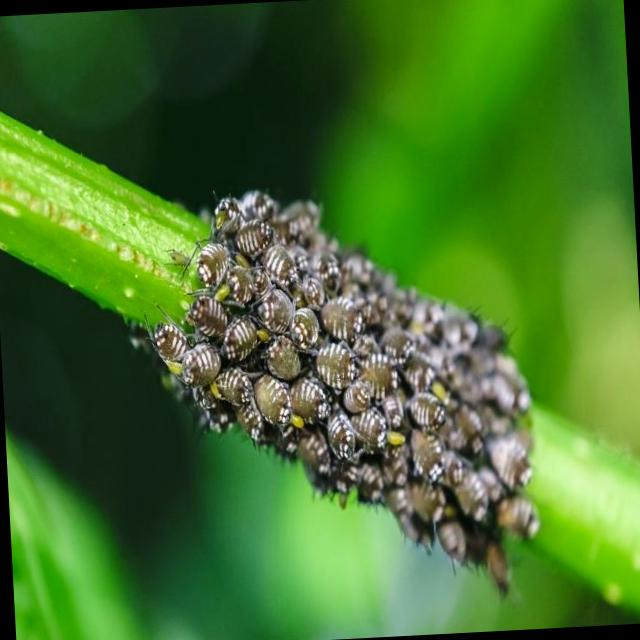aphid: (142, 297, 194, 377), (248, 366, 297, 444), (182, 278, 236, 344), (172, 327, 220, 397), (260, 321, 307, 388), (182, 222, 234, 282), (312, 338, 362, 394)
